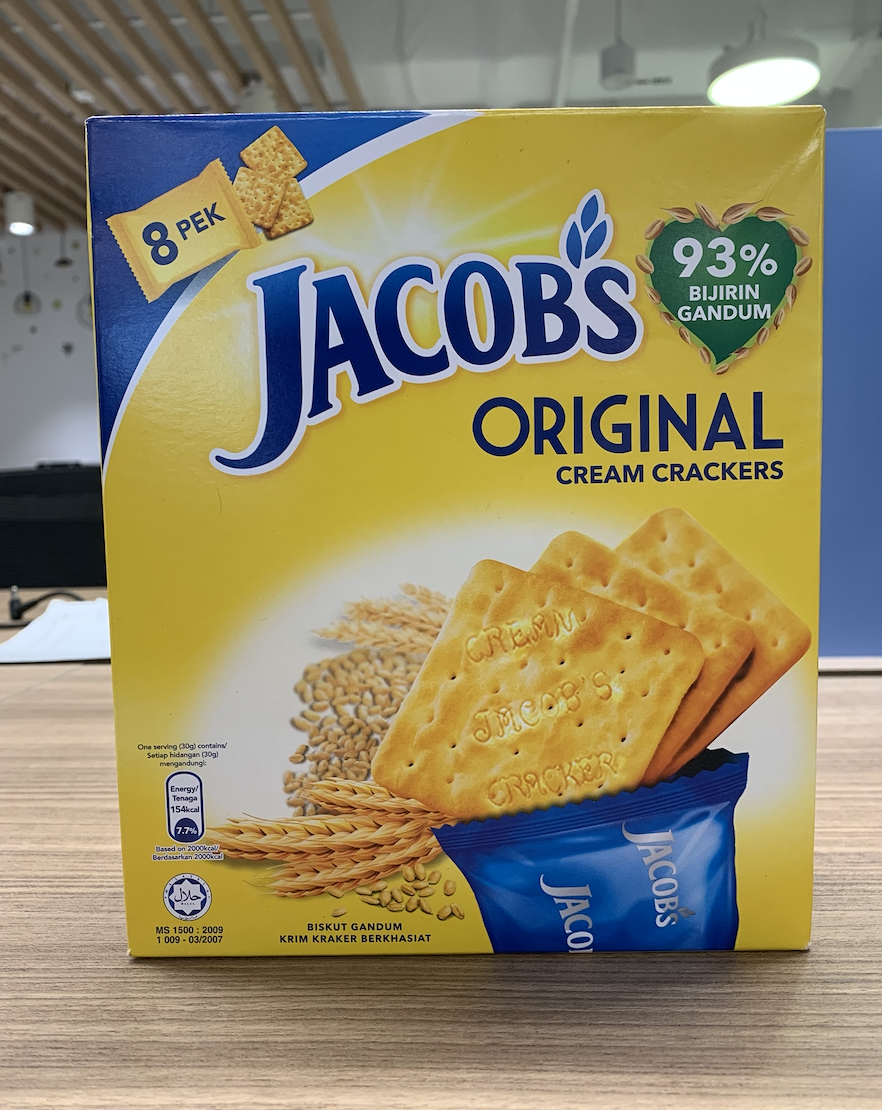halal: (171, 885, 205, 913)
